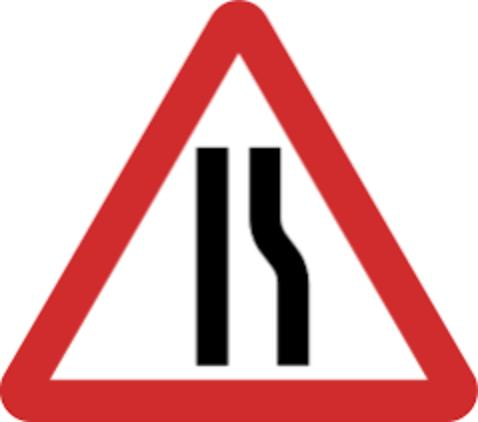narrow_road: (0, 3, 476, 419)
